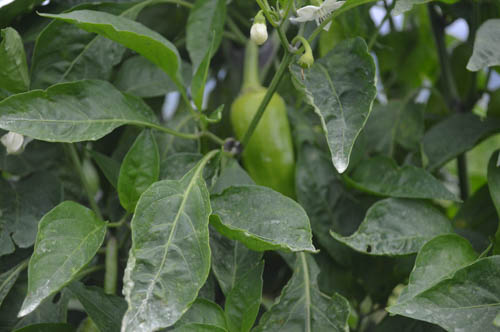ChiliPepper: (234, 93, 294, 204)
